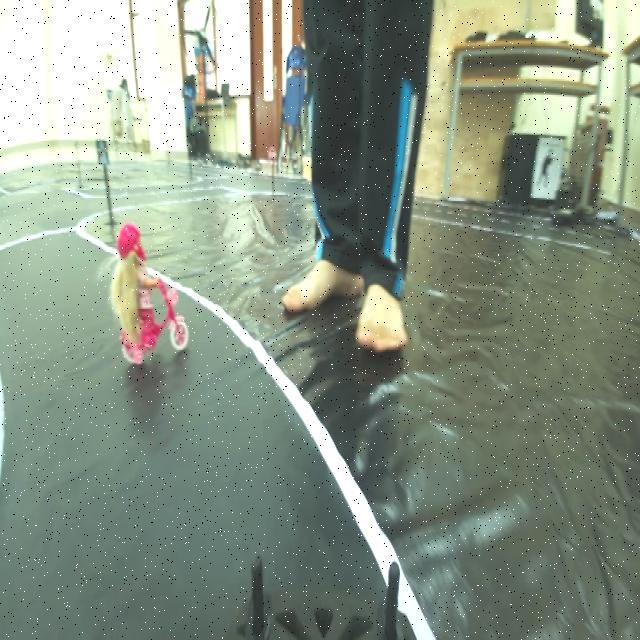pedestrian: (111, 222, 198, 371)
